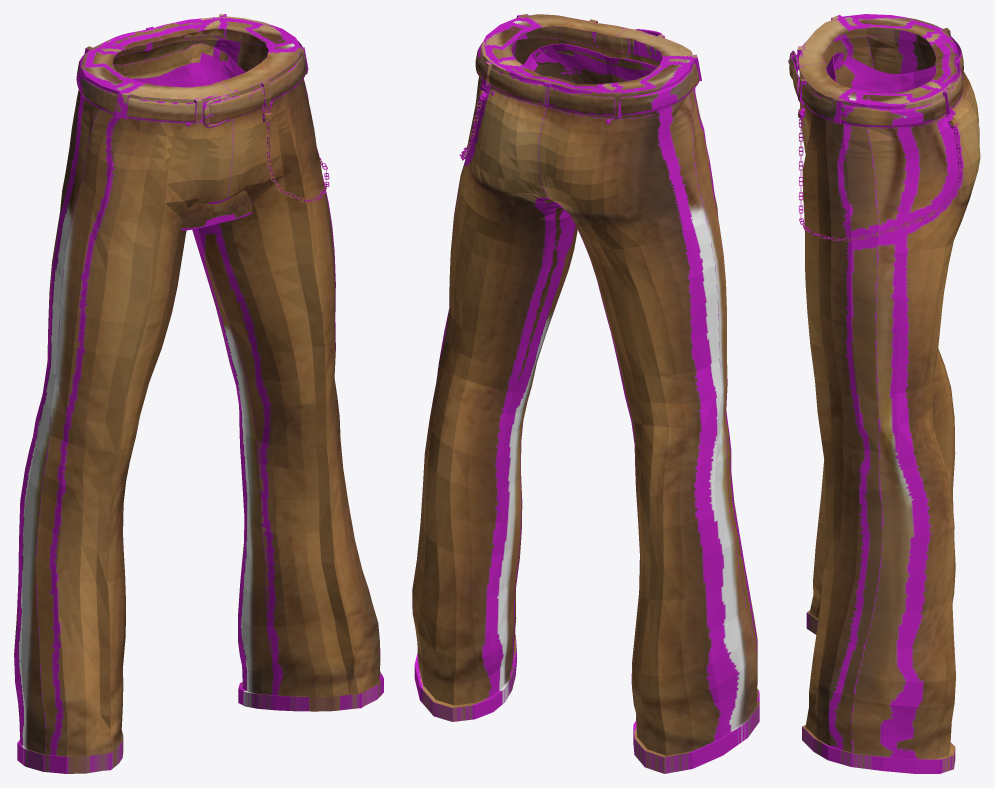
3 renders of one model, left to right at view 1: azimuth 30°, elevation 25°; view 2: azimuth 150°, elevation 25°; view 3: azimuth 270°, elevation 25°, orthographic. The views are drawn at different scales.
Size of the model in its own units: 0.3518 by 0.6846 by 0.1813.
1 material, 1 textured.
